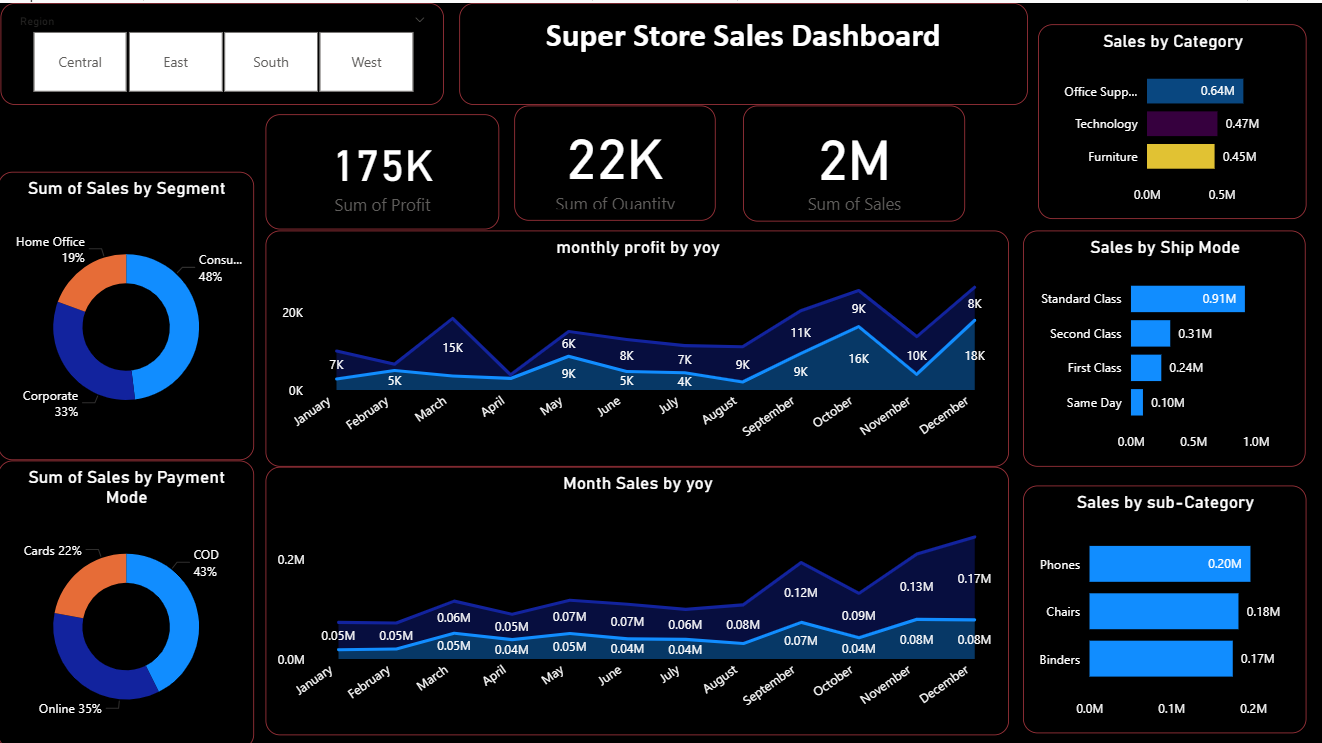

What the dashboard file says about the page in this screenshot:
{"tool":"powerbi","page":{"name":"Page 1","canvas":[1280,720],"ordinal":0},"visuals":[{"type":"clusteredBarChart","title":"Sales by Category","fields":{"Category":["SuperStore_Sales_Dataset.Category"],"Y":["Sum(SuperStore_Sales_Dataset.Sales)"]},"box":[1003.5,20,259.4,188.2],"z":0},{"type":"clusteredBarChart","title":"Sales by sub-Category","fields":{"Category":["SuperStore_Sales_Dataset.Sub-Category"],"Y":["Sum(SuperStore_Sales_Dataset.Sales)"]},"box":[989.2,466.1,273.7,239.5],"z":1000},{"type":"clusteredBarChart","title":"Sales by Ship Mode","fields":{"Category":["SuperStore_Sales_Dataset.Ship Mode"],"Y":["Sum(SuperStore_Sales_Dataset.Sales)"]},"box":[989.4,219.6,273.1,227.8],"z":2000},{"type":"stackedAreaChart","title":"monthly profit by yoy","fields":{"Category":["SuperStore_Sales_Dataset.Order Date.Variation.Date Hierarchy.Month"],"Series":["SuperStore_Sales_Dataset.Order Date.Variation.Date Hierarchy.Year"],"Y":["Sum(SuperStore_Sales_Dataset.Profit)"]},"box":[258,219.6,717.7,227.8],"z":3000},{"type":"stackedAreaChart","title":" Month Sales by yoy","fields":{"Category":["SuperStore_Sales_Dataset.Order Date.Variation.Date Hierarchy.Month"],"Series":["SuperStore_Sales_Dataset.Order Date.Variation.Date Hierarchy.Year"],"Y":["Sum(SuperStore_Sales_Dataset.Sales)"]},"box":[258,447.3,717.7,259.3],"z":4000},{"type":"donutChart","fields":{"Category":["SuperStore_Sales_Dataset.Payment Mode"],"Y":["Sum(SuperStore_Sales_Dataset.Sales)"]},"box":[0,441.9,247,278.6],"z":5000},{"type":"donutChart","fields":{"Category":["SuperStore_Sales_Dataset.Segment"],"Y":["Sum(SuperStore_Sales_Dataset.Sales)"]},"box":[0,163.3,247,278.6],"z":6000},{"type":"slicer","fields":{"Values":["SuperStore_Sales_Dataset.Region"]},"box":[2.7,0,428.1,98.8],"z":7000},{"type":"card","title":"Sales","fields":{"Values":["Sum(SuperStore_Sales_Dataset.Sales)"]},"box":[719,98.9,214.7,112.2],"z":8000},{"type":"card","title":"Quantity","fields":{"Values":["Sum(SuperStore_Sales_Dataset.Quantity)"]},"box":[498.3,98.9,194.2,111],"z":9000},{"type":"card","title":"Profit","fields":{"Values":["Sum(SuperStore_Sales_Dataset.Profit)"]},"box":[258.2,107.4,225.6,111],"z":10000},{"type":"textbox","box":[444.6,0,548.9,98.8],"z":11000}]}

Visuals, with their boxes in screenshot pixels (x1, y1, x2, y2), scaled from the page's 1280x720 canvas onto the 1322x743 screenshot:
"Sales by Category" clusteredBarChart: x1=1036, y1=21, x2=1304, y2=215
"Sales by sub-Category" clusteredBarChart: x1=1022, y1=481, x2=1304, y2=728
"Sales by Ship Mode" clusteredBarChart: x1=1022, y1=227, x2=1304, y2=462
"monthly profit by yoy" stackedAreaChart: x1=266, y1=227, x2=1008, y2=462
" Month Sales by yoy" stackedAreaChart: x1=266, y1=462, x2=1008, y2=729
donutChart - SuperStore_Sales_Dataset.Payment Mode x Sum(SuperStore_Sales_Dataset.Sales): x1=0, y1=456, x2=255, y2=742
donutChart - SuperStore_Sales_Dataset.Segment x Sum(SuperStore_Sales_Dataset.Sales): x1=0, y1=169, x2=255, y2=456
slicer - SuperStore_Sales_Dataset.Region: x1=3, y1=0, x2=445, y2=102
"Sales" card: x1=743, y1=102, x2=964, y2=218
"Quantity" card: x1=515, y1=102, x2=715, y2=217
"Profit" card: x1=267, y1=111, x2=500, y2=225
textbox: x1=459, y1=0, x2=1026, y2=102
